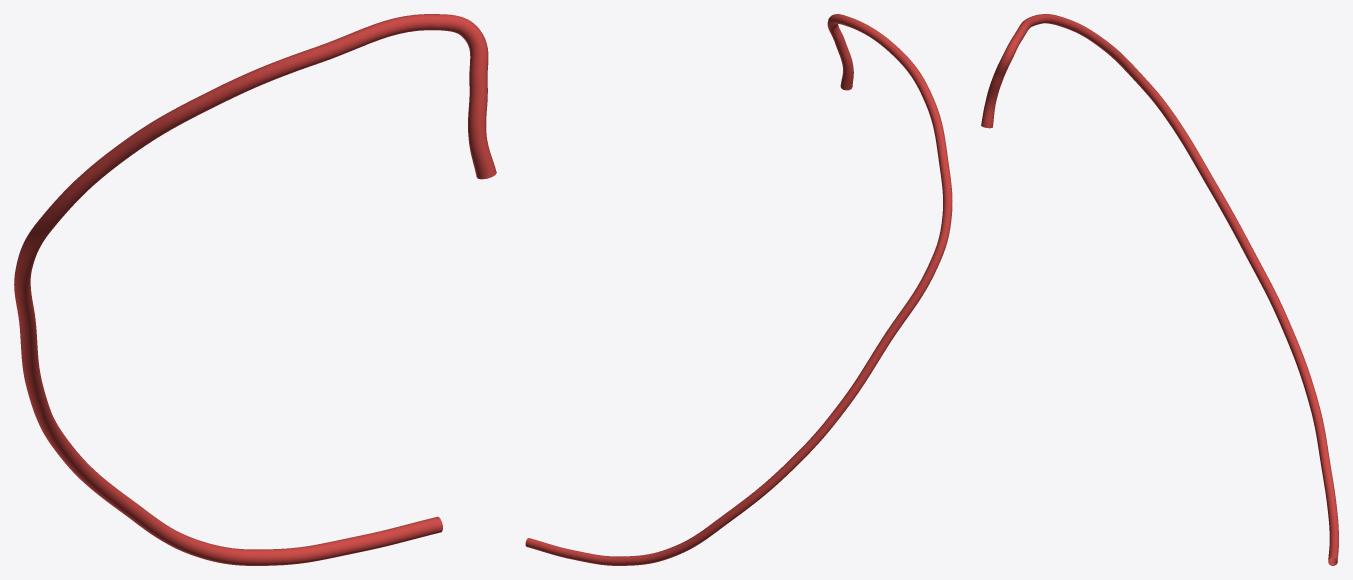
3 views of the same model, side by side, from view 1: azimuth 30°, elevation 25°; view 2: azimuth 150°, elevation 25°; view 3: azimuth 270°, elevation 25° (orthographic). The views are drawn at different scales.
Visible parts, largest first — view 1: 右侧第2肋间后动脉; view 2: 右侧第2肋间后动脉; view 3: 右侧第2肋间后动脉.
Part boxes in pixels (x1,y1,x2,y2): 右侧第2肋间后动脉: (14,14,496,565); 右侧第2肋间后动脉: (525,14,952,565); 右侧第2肋间后动脉: (981,14,1338,565).
Size of the model in its own units: 0.1161 by 0.1542 by 0.1099.
